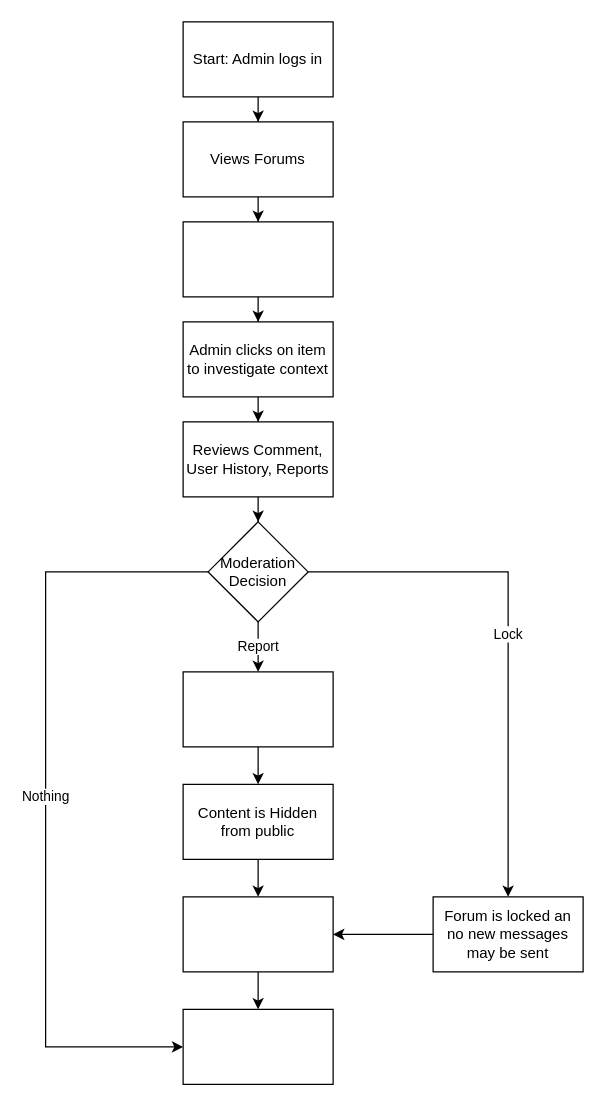
This 605x1106 diagram has some shape labels left out. Each missing label, with the box of its shape:
Admin proactively finds content to review: (182, 221, 333, 297)
End: Return to Forums: (182, 1008, 333, 1084)
Log Action: (182, 896, 333, 972)
Report user for what the User did wrong: (182, 671, 333, 747)
